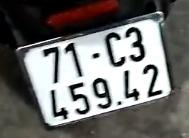1: (61, 41, 86, 79)
2: (141, 61, 166, 99)
3: (122, 23, 149, 64)
4: (47, 87, 72, 126), (119, 68, 141, 103)
5: (66, 80, 92, 116)
7: (37, 45, 64, 85)
9: (91, 74, 114, 112)
C: (101, 30, 128, 70)
